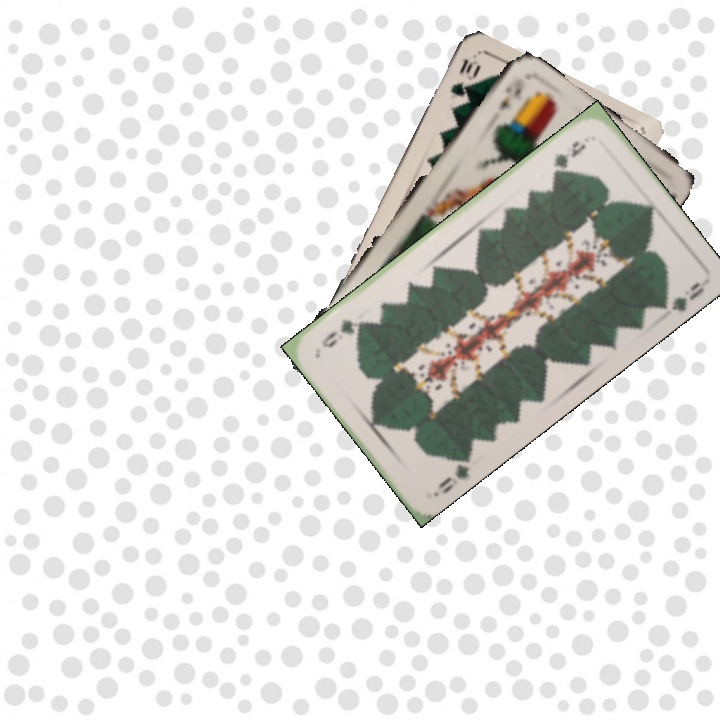EK: (494, 74, 528, 113)
G10: (446, 55, 483, 100)
G9: (434, 448, 473, 497), (549, 136, 589, 177)
